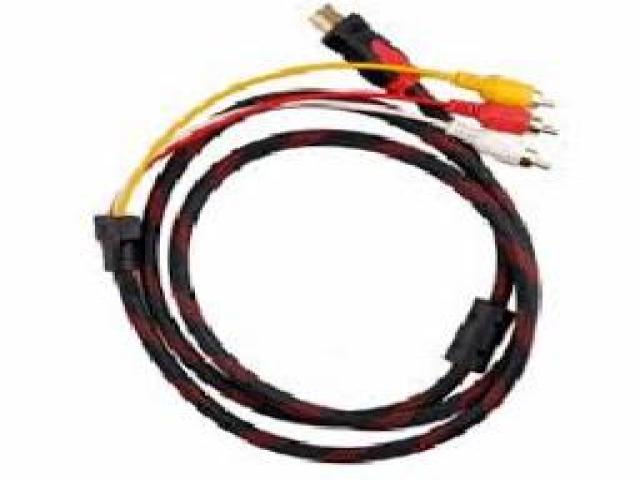wire: (95, 7, 550, 462)
